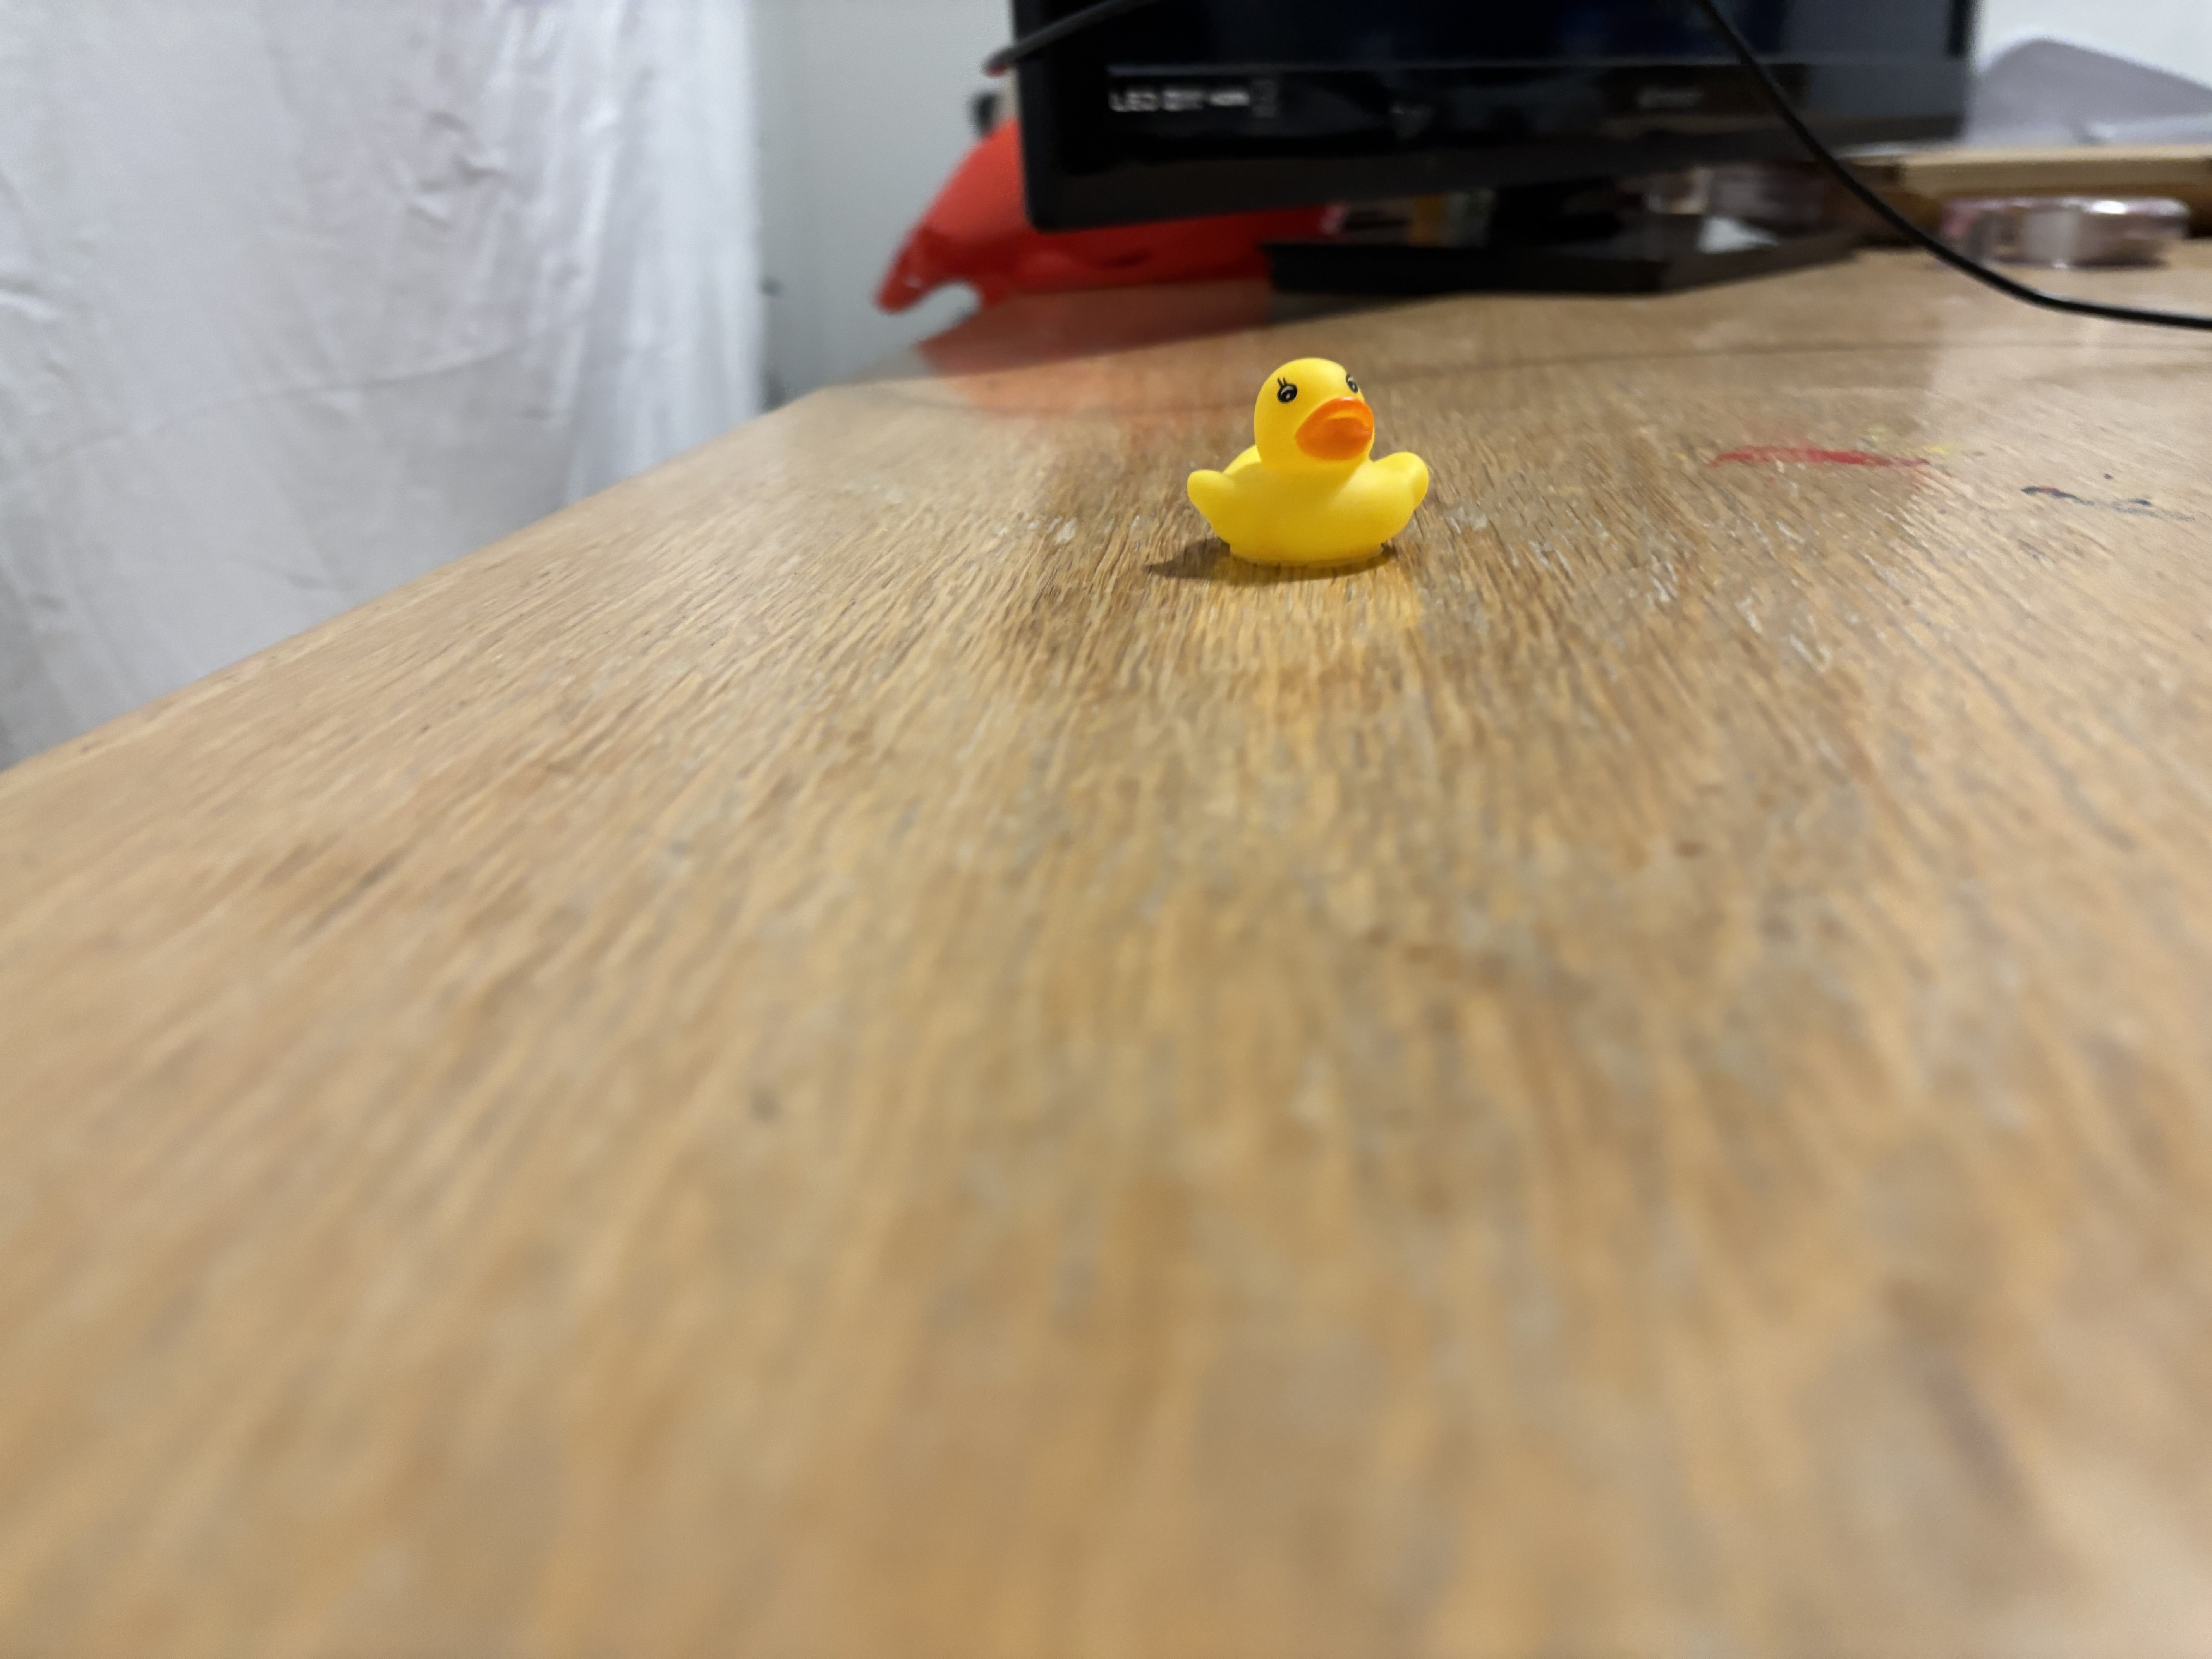duck_regular: (1179, 347, 1454, 556)
